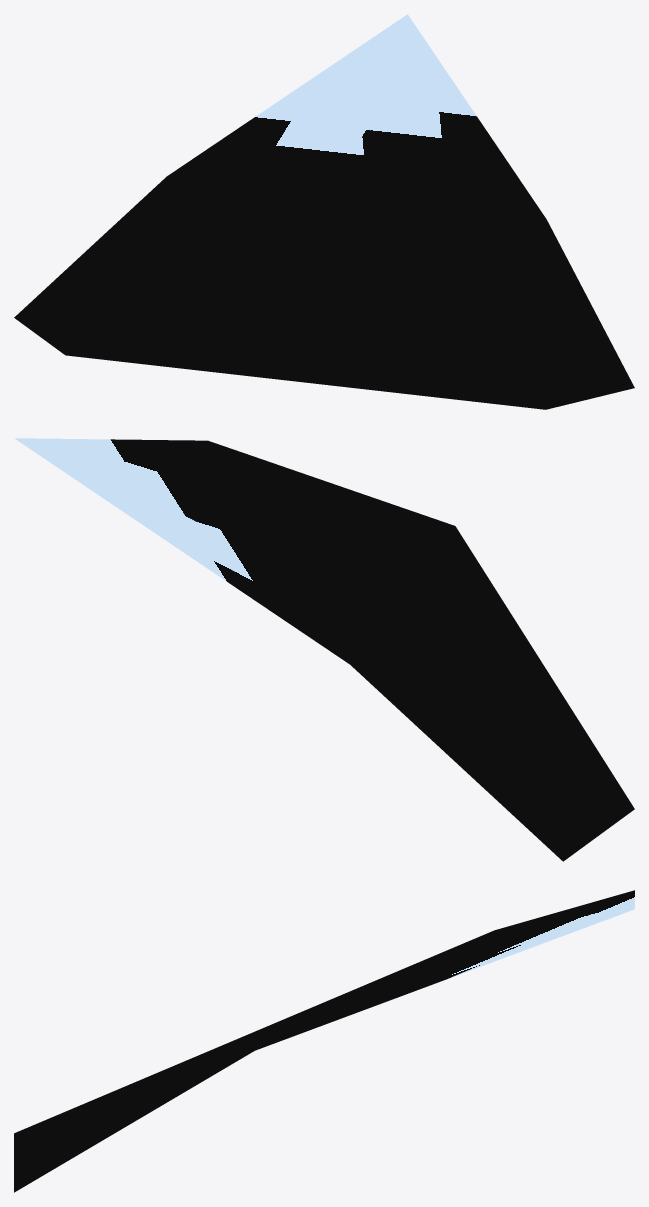
3 renders of one model, top to bottom at view 1: azimuth 30°, elevation 25°; view 2: azimuth 150°, elevation 25°; view 3: azimuth 270°, elevation 25°, orthographic. The views are drawn at different scales.
Bounding box in the file's own units: 0.3838 × 0.1933 × 0.3838.
Materials: 1 (1 with a texture image).
